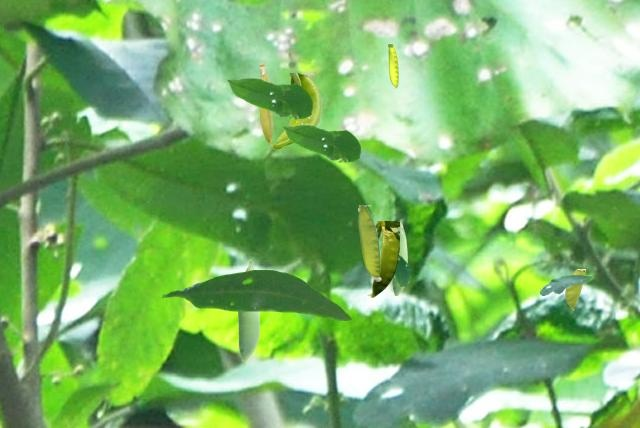pea: (271, 73, 320, 148), (367, 221, 398, 296), (237, 259, 258, 359), (358, 205, 380, 280), (259, 62, 272, 145), (392, 219, 406, 294), (565, 269, 584, 309), (388, 44, 397, 89)
